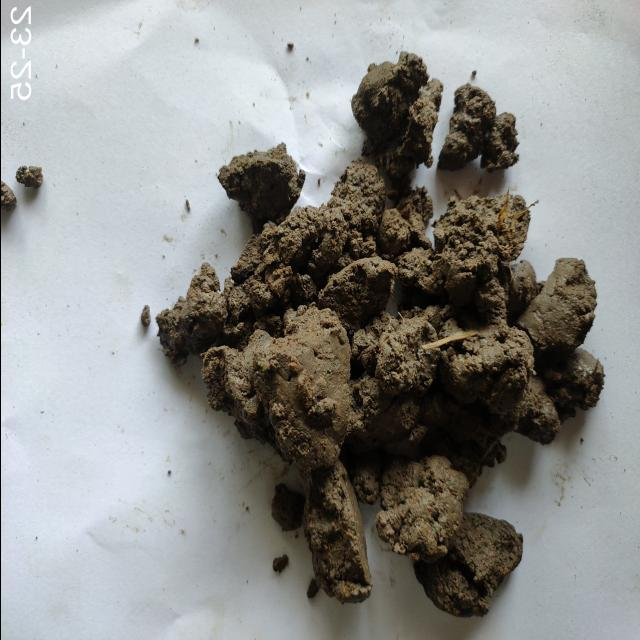soil: (272, 246, 492, 415)
